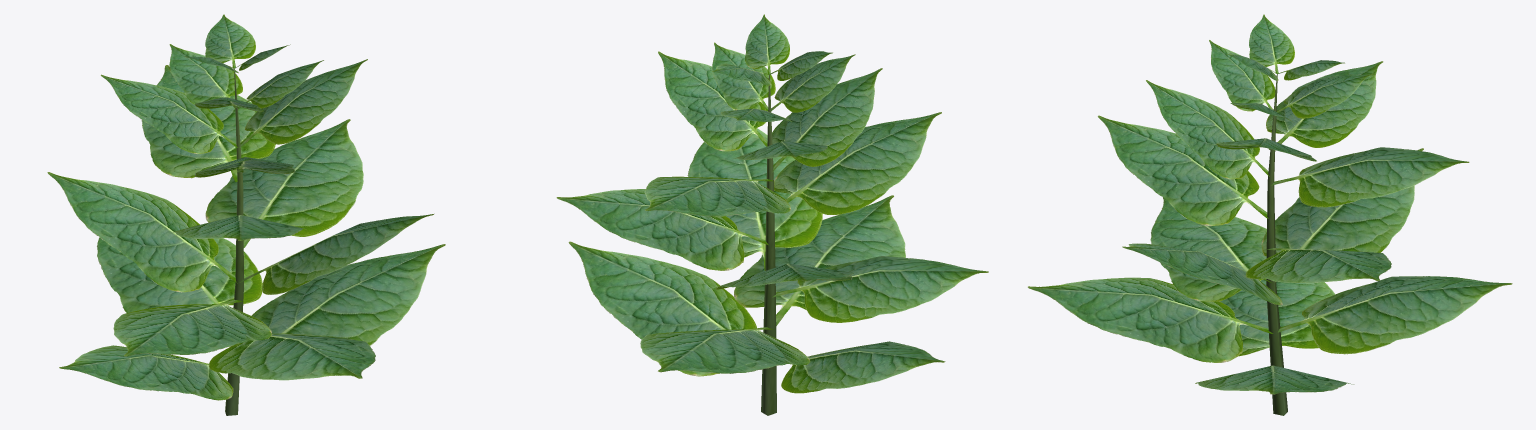
The model's file is Plant_06.FBX.
3 renders of one model, left to right at view 1: azimuth 30°, elevation 25°; view 2: azimuth 150°, elevation 25°; view 3: azimuth 270°, elevation 25°, orthographic. The views are drawn at different scales.
Parts seen in each view (by area): view 1: Plant_06; view 2: Plant_06; view 3: Plant_06.
Boxes of the visible parts, x1,y1,x2,y2 form: Plant_06: [47, 14, 445, 415]; Plant_06: [556, 14, 988, 415]; Plant_06: [1027, 14, 1512, 415].
Size of the model in its own units: 0.572 by 0.4993 by 0.6036.
